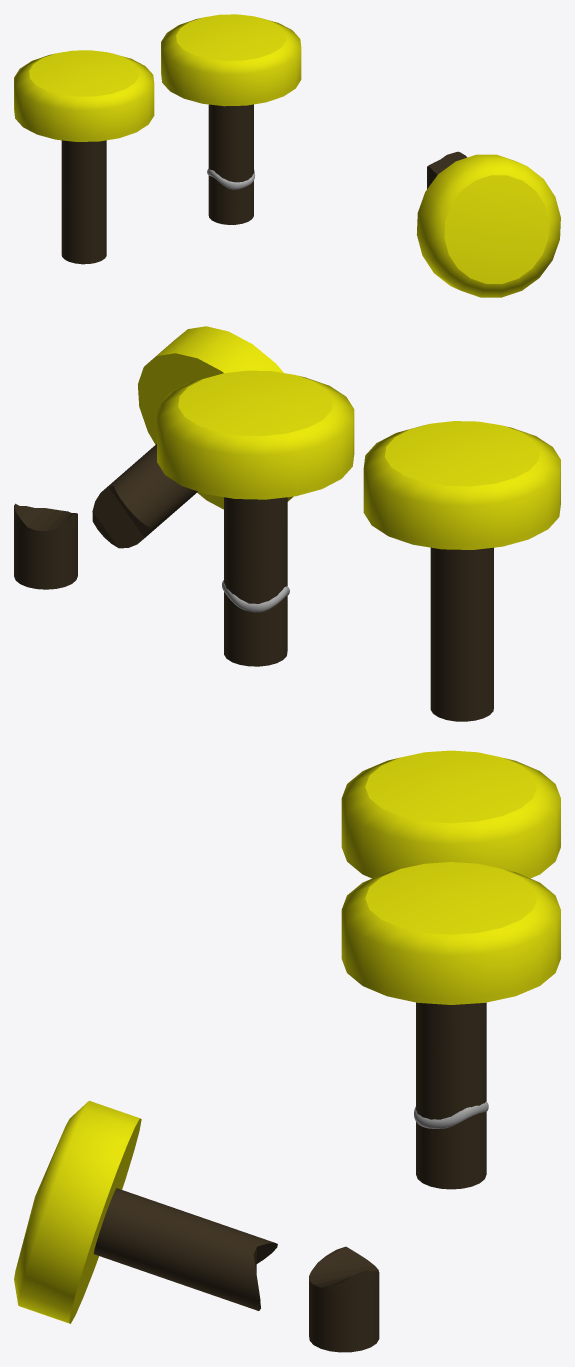
The model's file is FBX_WeldingStool.fbx.
The picture shows the model from 3 angles, top to bottom: view 1: azimuth 30°, elevation 25°; view 2: azimuth 150°, elevation 25°; view 3: azimuth 270°, elevation 25°; orthographic projection. The views are drawn at different scales.
Visible parts, largest first — view 1: Before, pasted__BrokenTop, TopFixed, BottomFixed, pasted__BrokenBottom, pCube1; view 2: Before, TopFixed, pasted__BrokenTop, pasted__BrokenBottom, BottomFixed, pCube1; view 3: TopFixed, pasted__BrokenTop, Before, pasted__BrokenBottom, BottomFixed, pCube1.
Boxes of the visible parts, x1=… form: Before: x1=14, y1=50, x2=154, y2=264; pasted__BrokenTop: x1=416, y1=154, x2=560, y2=297; TopFixed: x1=161, y1=14, x2=301, y2=182; BottomFixed: x1=208, y1=175, x2=253, y2=224; pasted__BrokenBottom: x1=427, y1=151, x2=466, y2=188; pCube1: x1=207, y1=169, x2=254, y2=189; Before: x1=363, y1=421, x2=560, y2=721; TopFixed: x1=157, y1=370, x2=354, y2=603; pasted__BrokenTop: x1=92, y1=326, x2=293, y2=548; pasted__BrokenBottom: x1=14, y1=503, x2=77, y2=589; BottomFixed: x1=224, y1=592, x2=287, y2=666; pCube1: x1=222, y1=580, x2=289, y2=612; TopFixed: x1=341, y1=862, x2=560, y2=1119; pasted__BrokenTop: x1=14, y1=1100, x2=277, y2=1323; Before: x1=341, y1=750, x2=560, y2=878; pasted__BrokenBottom: x1=309, y1=1246, x2=379, y2=1352; BottomFixed: x1=416, y1=1112, x2=486, y2=1189; pCube1: x1=414, y1=1101, x2=488, y2=1128.
Size of the model in its own units: 660 by 315 by 489.
